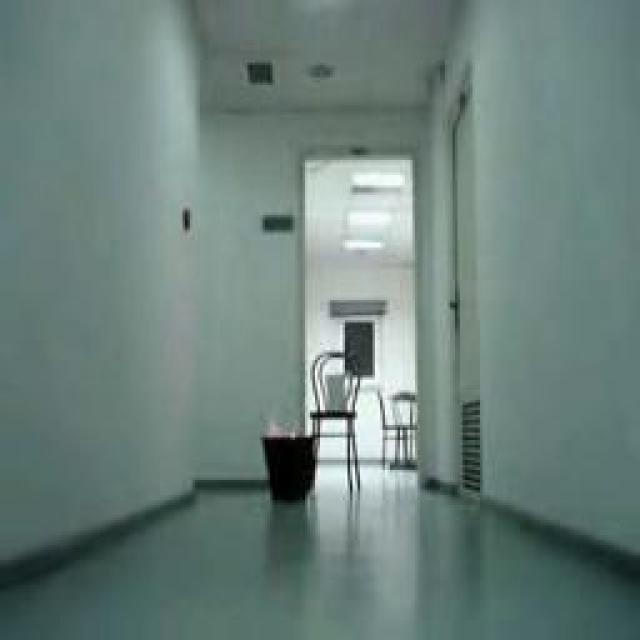Fire: (266, 419, 281, 437), (288, 429, 296, 436)
